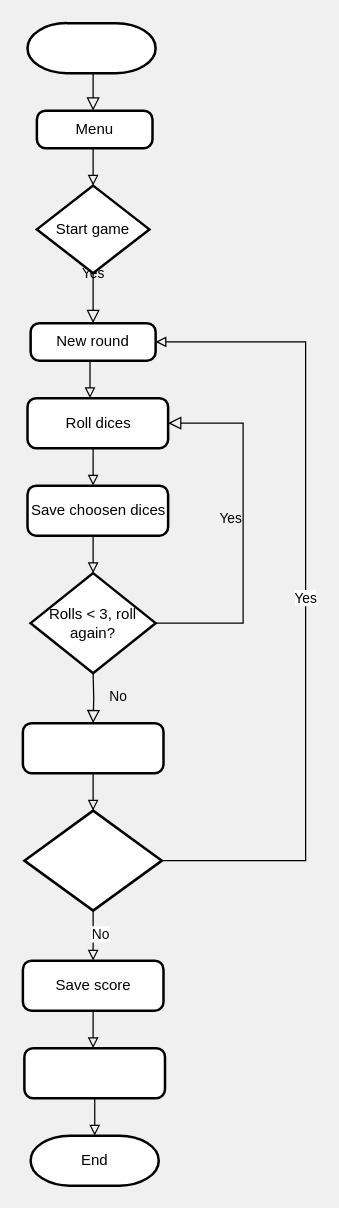
The diagram is 339 pixels wide and 1208 high, and some of its shapes have lost their labels. The box of each missing label's shape, as (x1, y1, x2, y2) in pixels:
Rounds < total rounds, new round?: (22, 809, 162, 911)
Save round: (21, 721, 164, 774)
Show result: (22, 1046, 166, 1099)
Start: (26, 21, 156, 74)
